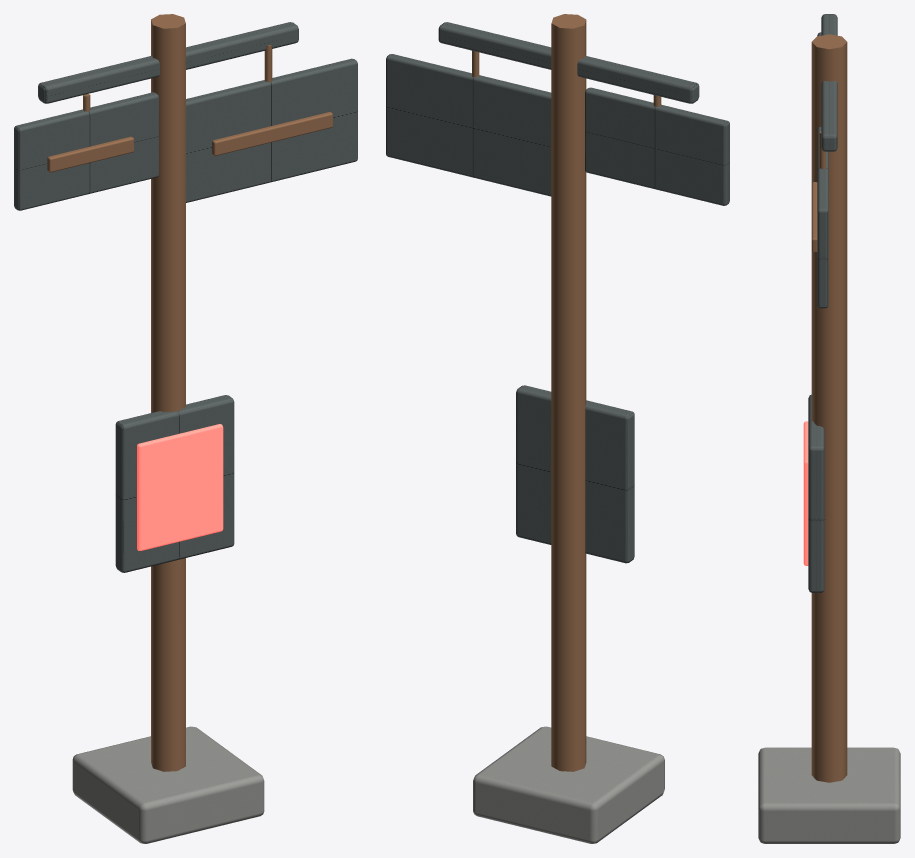
Rendered from road-sign.glb.
3 renders of one model, left to right at view 1: azimuth 30°, elevation 25°; view 2: azimuth 150°, elevation 25°; view 3: azimuth 270°, elevation 25°, orthographic.
Visible parts, largest first — view 1: road-sign, sign/panel, sign/rust; view 2: road-sign, sign/panel; view 3: road-sign, sign/panel, sign/rust.
Part boxes in pixels (x1,y1,x2,y2): road-sign: [72, 14, 264, 843]; sign/panel: [14, 22, 357, 210]; sign/rust: [47, 44, 332, 172]; road-sign: [473, 14, 664, 843]; sign/panel: [386, 22, 729, 205]; road-sign: [758, 34, 900, 843]; sign/panel: [817, 14, 837, 308]; sign/rust: [811, 131, 825, 252].
Bounding box in the file's own units: 1.2 × 2.64 × 0.44.
4 materials, 2 textured.
